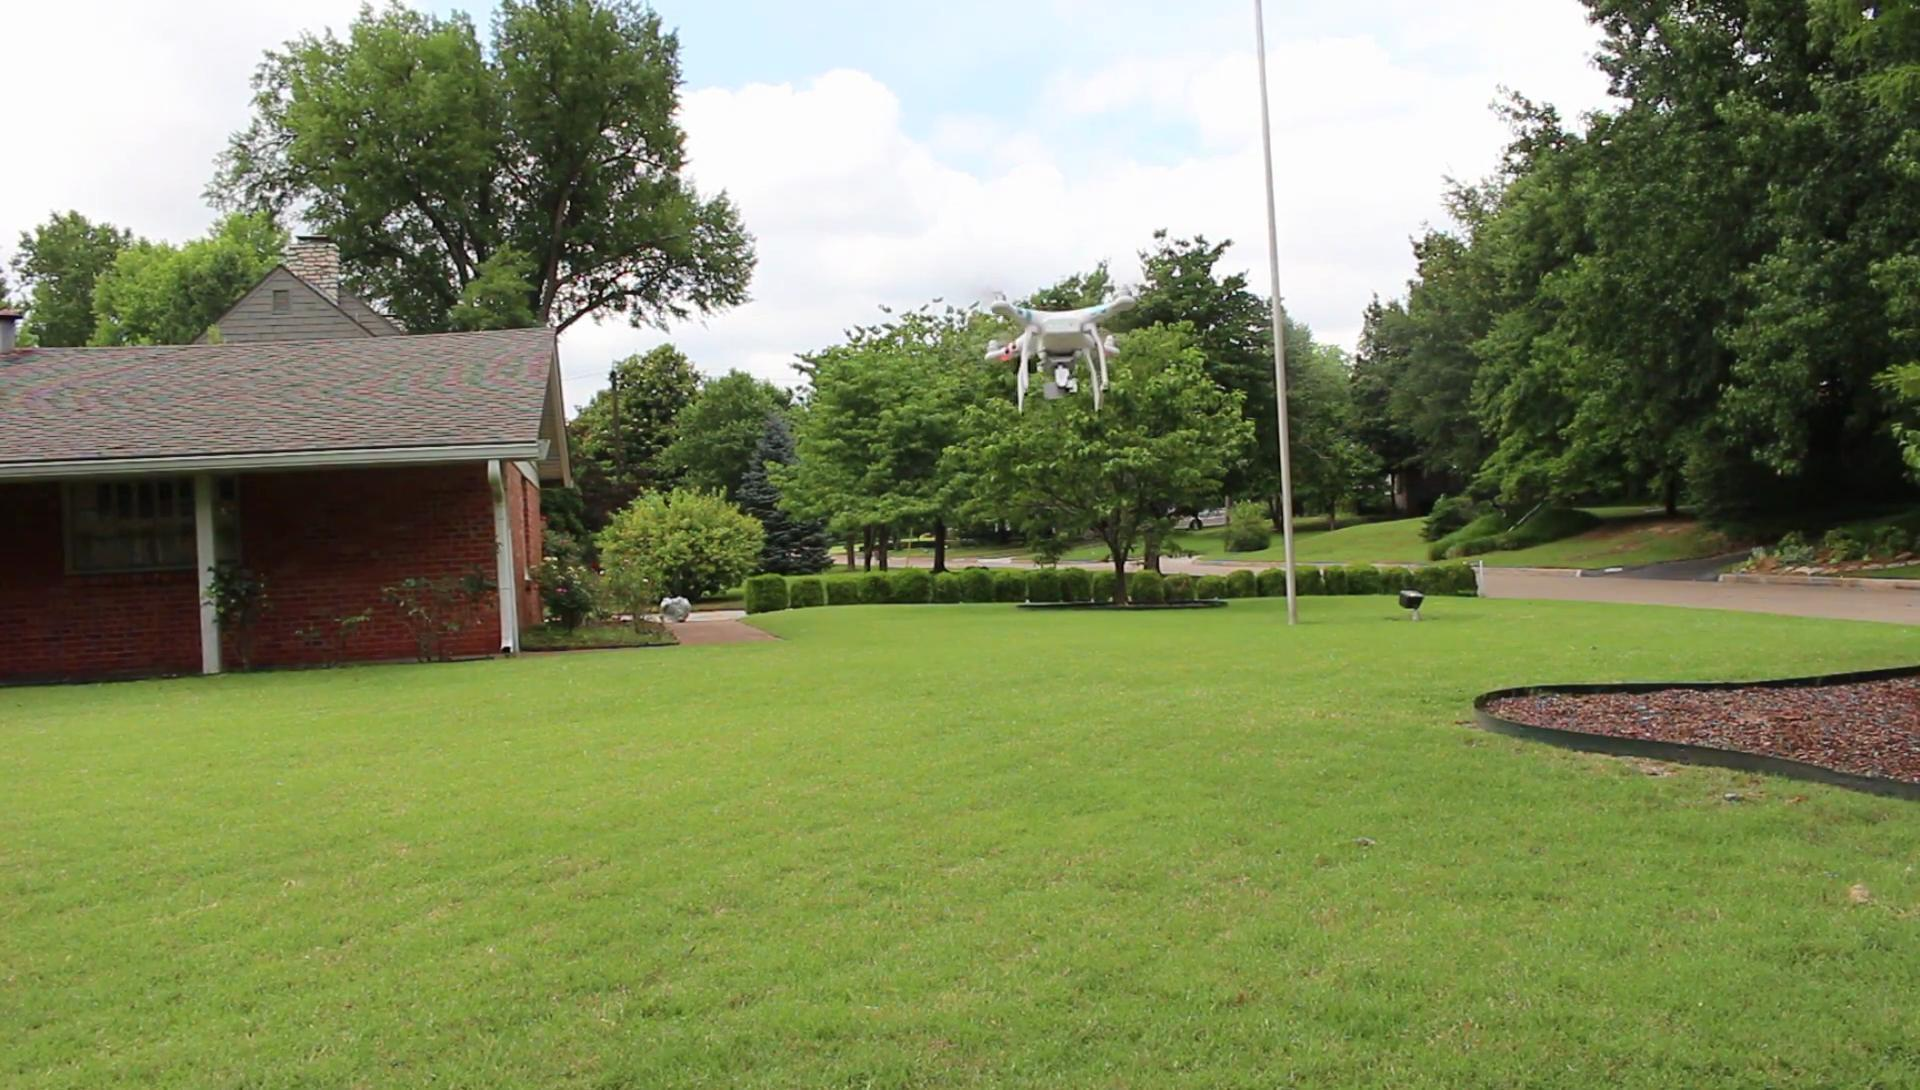drone: (968, 279, 1145, 415)
